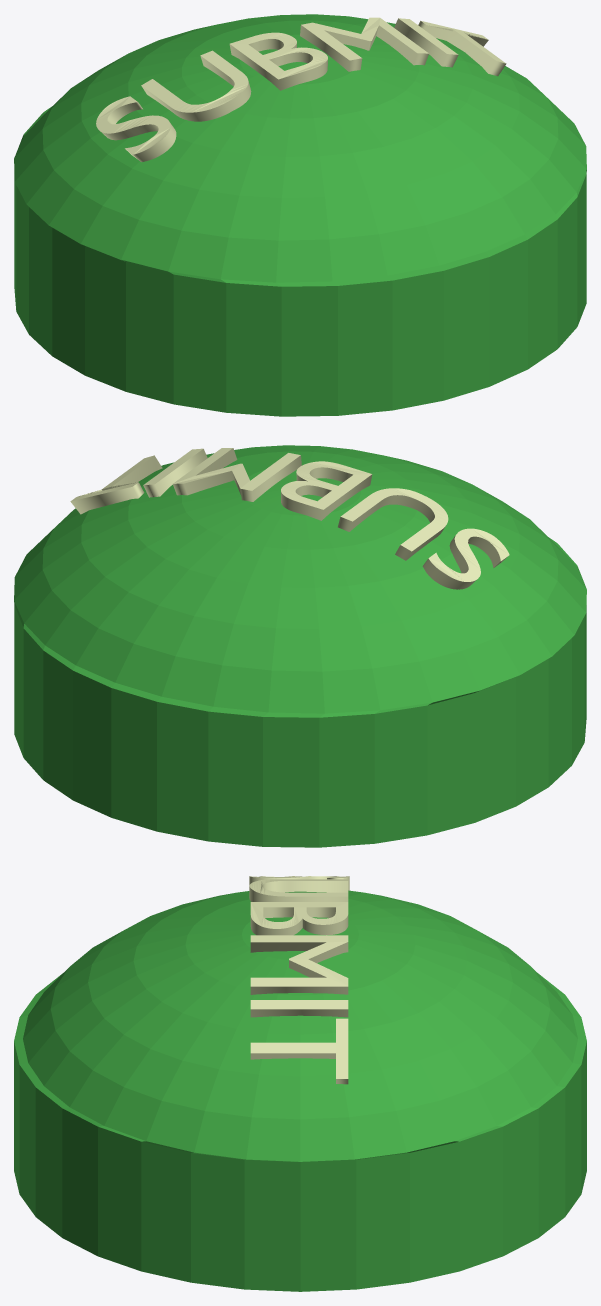
File: submit.fbx
3 renders of one model, top to bottom at view 1: azimuth 30°, elevation 25°; view 2: azimuth 150°, elevation 25°; view 3: azimuth 270°, elevation 25°, orthographic.
Visible parts, largest first — view 1: SubmitButton, Text; view 2: SubmitButton, Text; view 3: SubmitButton, Text.
Part boxes in pixels (x1,y1,x2,y2): SubmitButton: [14, 14, 586, 416]; Text: [96, 17, 506, 162]; SubmitButton: [14, 445, 586, 847]; Text: [70, 448, 509, 589]; SubmitButton: [14, 890, 586, 1291]; Text: [249, 876, 349, 1084].
Bounding box in the file's own units: 406 × 191 × 400.
